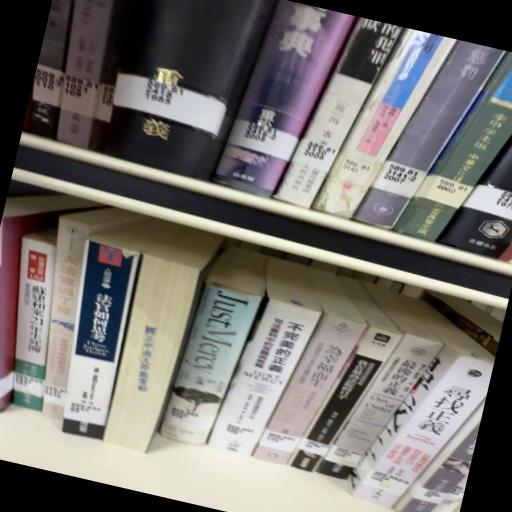backward: (104, 230, 224, 454)
book: (352, 29, 506, 251), (313, 20, 455, 238), (275, 11, 405, 225), (105, 254, 208, 457), (48, 242, 148, 442), (1, 223, 77, 411)
